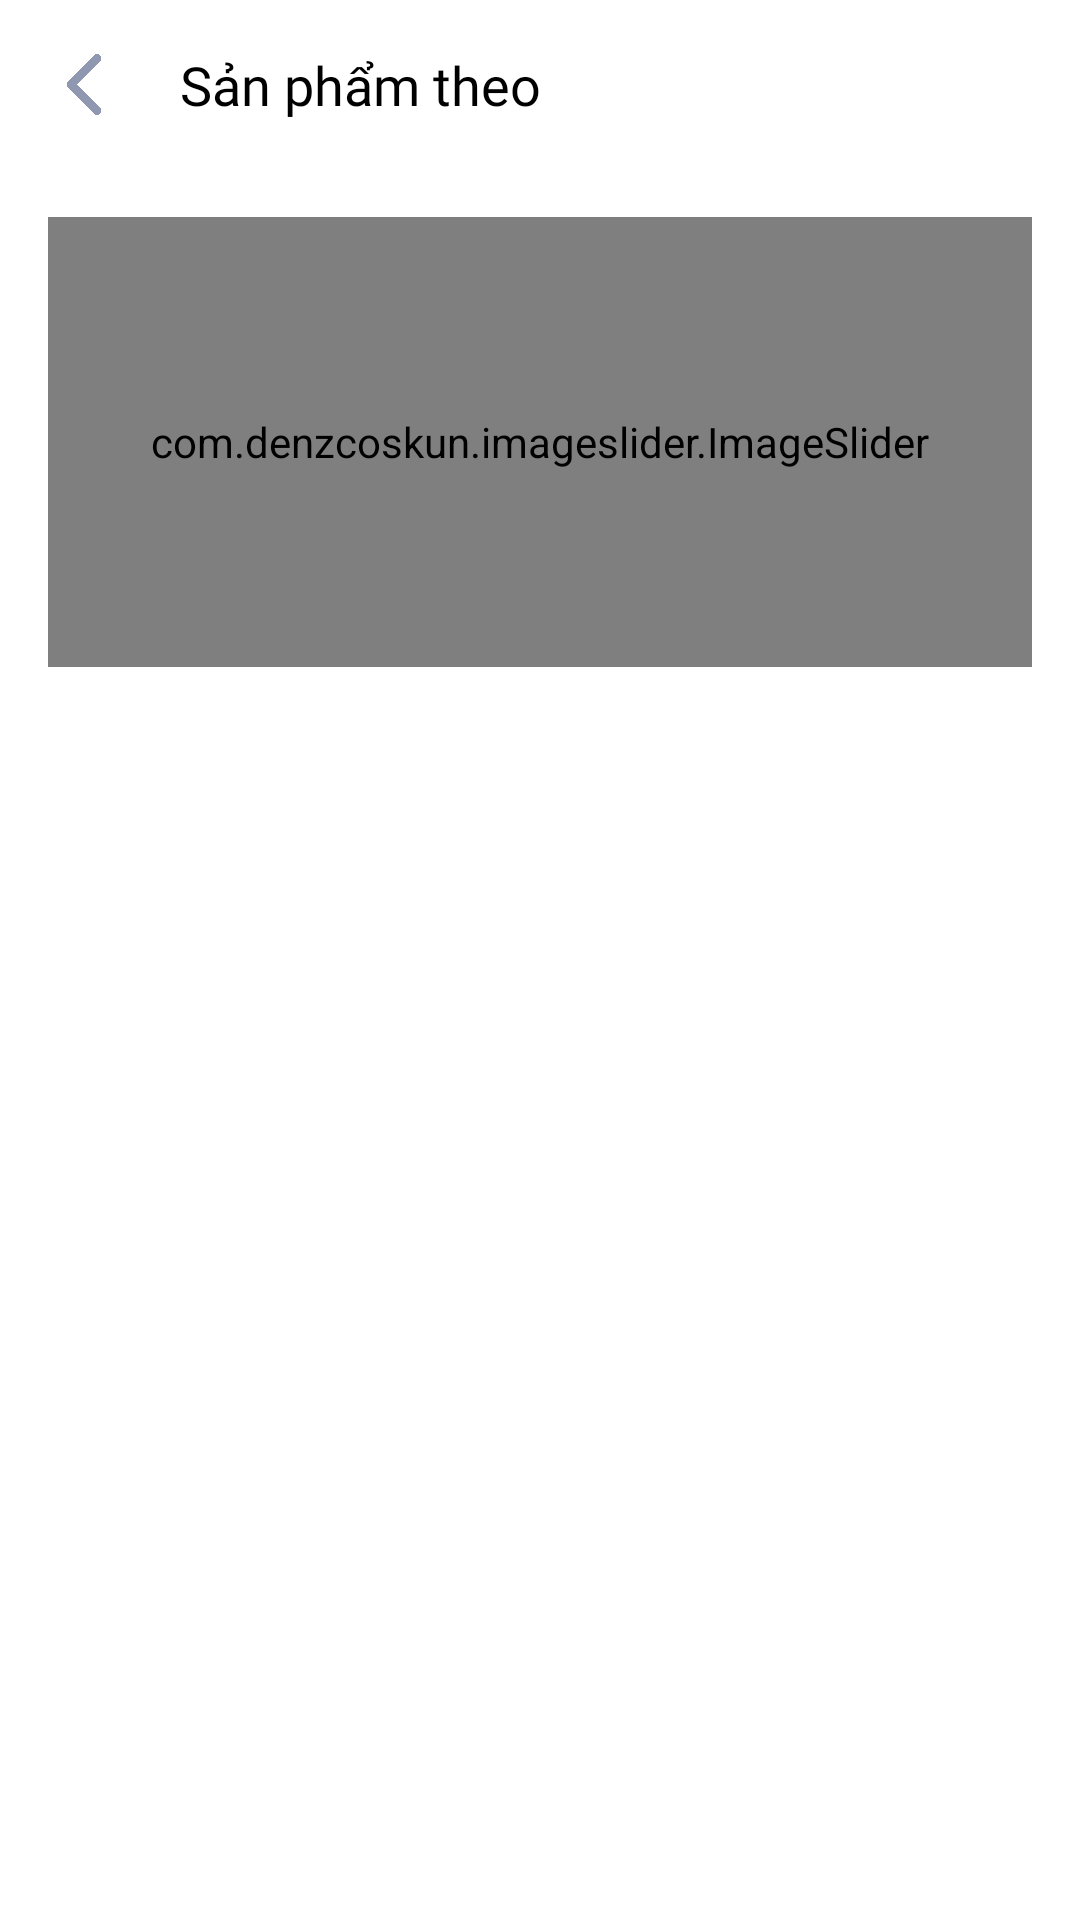

Where to tap for icons on this 1080×1920 app screen, as [x,y]:
arrow: [84,84]
